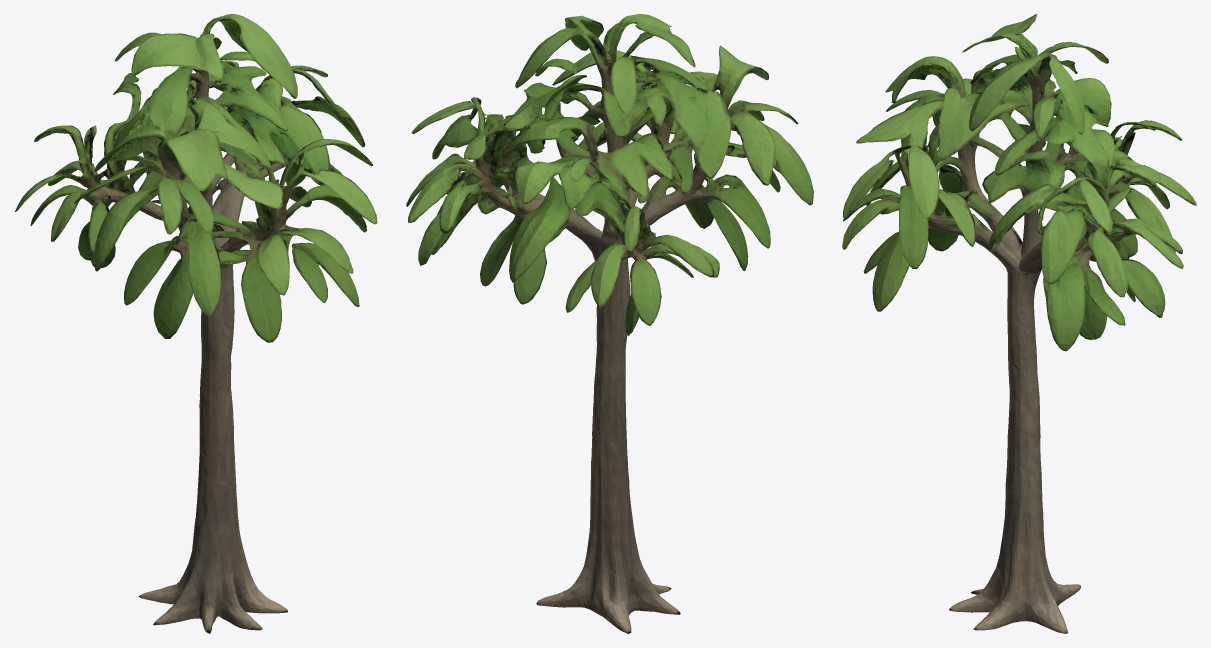
3 renders of one model, left to right at view 1: azimuth 30°, elevation 25°; view 2: azimuth 150°, elevation 25°; view 3: azimuth 270°, elevation 25°, orthographic. The views are drawn at different scales.
Visible parts, largest first — view 1: world; view 2: world; view 3: world.
Boxes of the visible parts, box(x1,y1,x2,y2) form: world: box(15, 14, 377, 633); world: box(406, 14, 813, 633); world: box(842, 14, 1196, 633).
Size of the model in its own units: 0.5809 by 0.9999 by 0.5657.
1 material, 1 textured.
